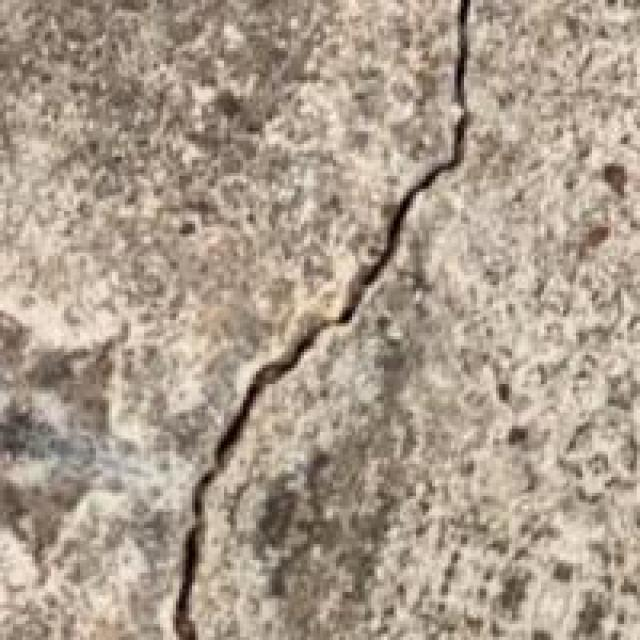Crack: (167, 13, 596, 637)
